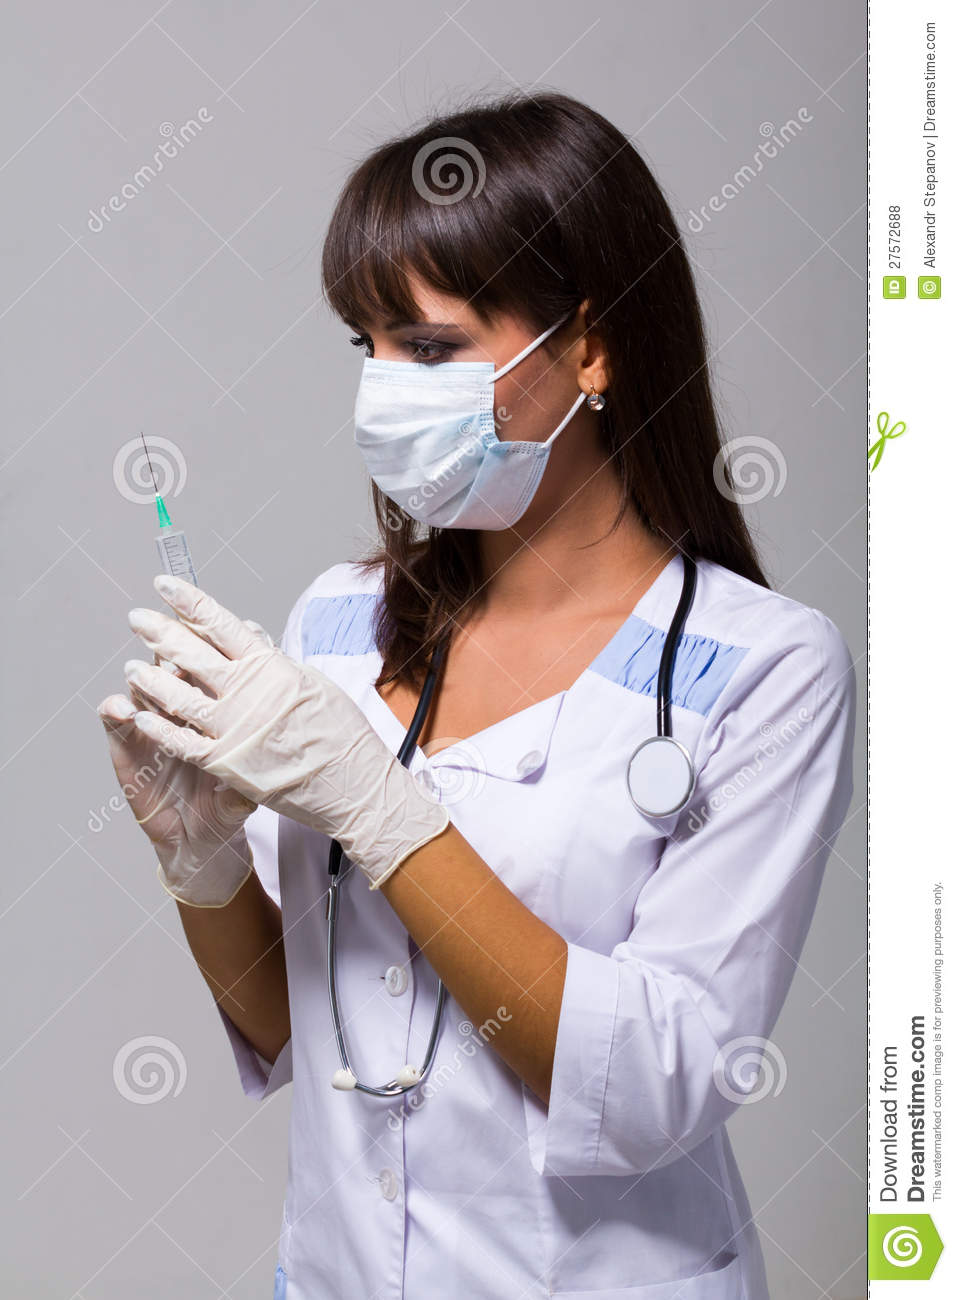mask: (336, 353, 548, 539)
